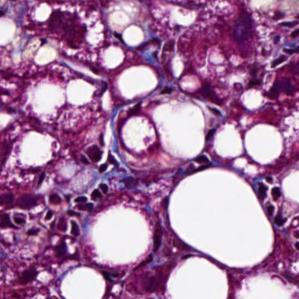inflammation: (40, 181, 114, 214), (254, 175, 290, 232), (75, 142, 125, 174)
